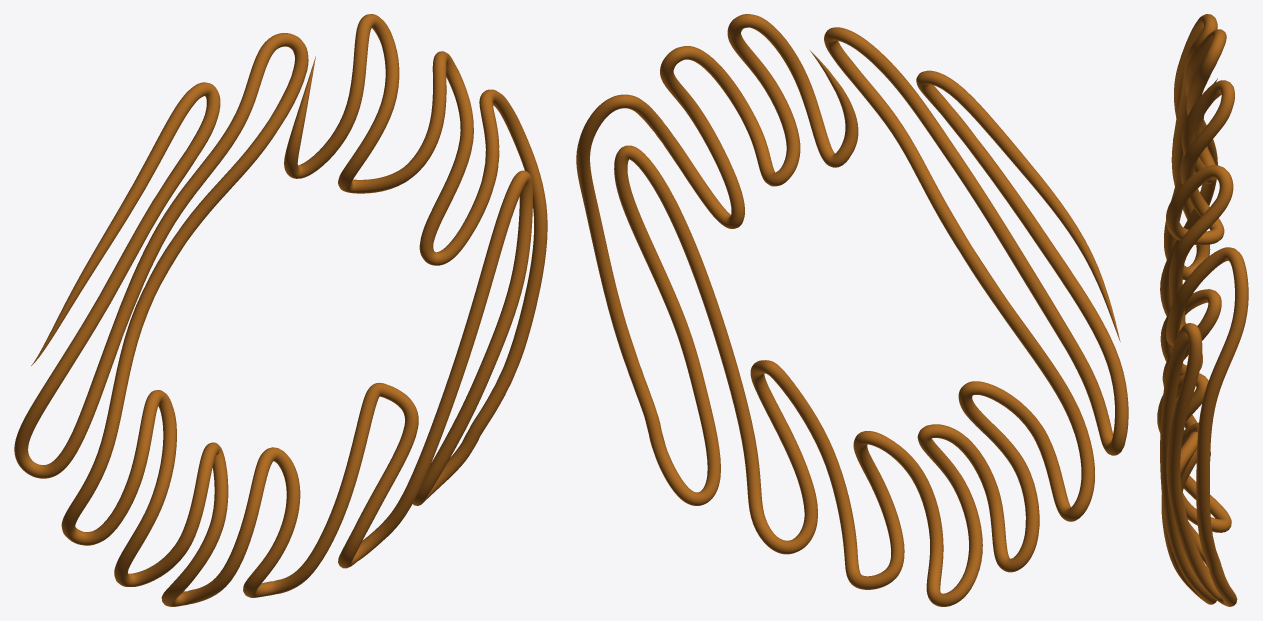
3 views of the same model, side by side, from view 1: azimuth 30°, elevation 25°; view 2: azimuth 150°, elevation 25°; view 3: azimuth 270°, elevation 25° (orthographic).
Bounding box in the file's own units: 0.9359 × 0.9268 × 0.1388.
